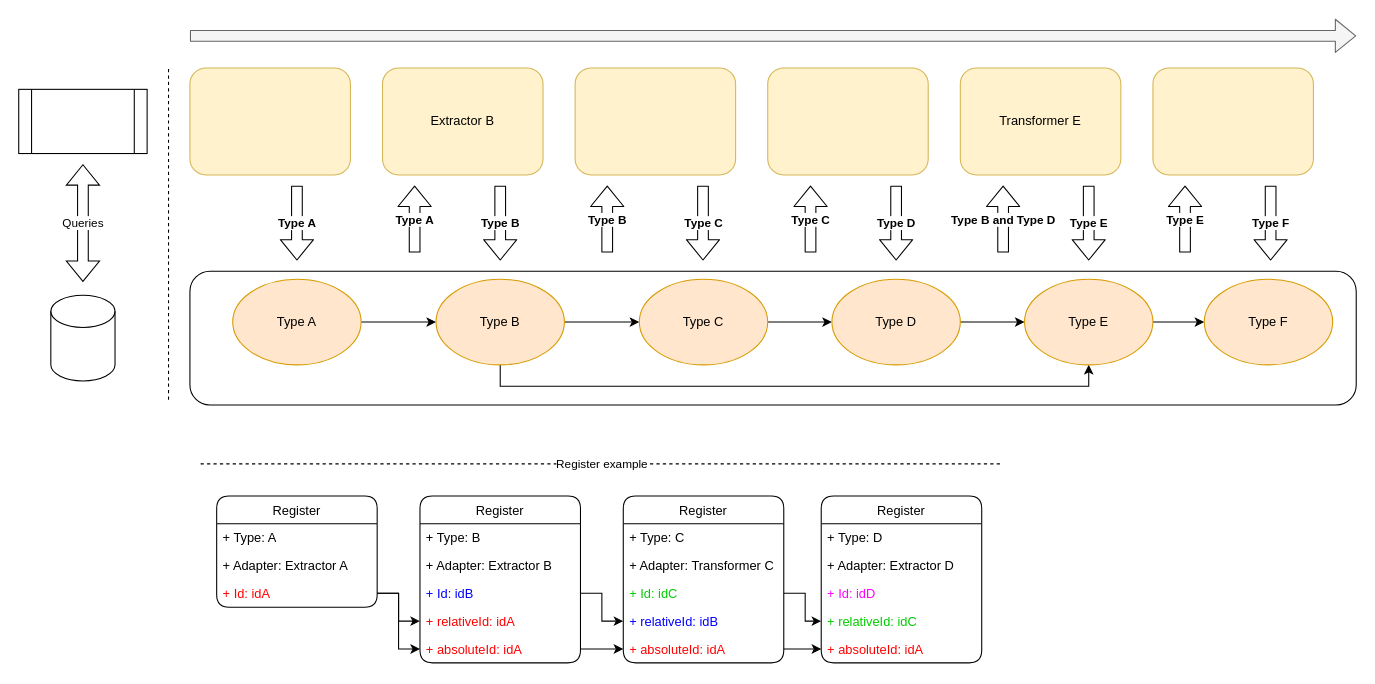
Some shapes in this 1375 by 684 pixel diagram are drawn without their labels. Here are the shapes that lost their labels. From the top down, the centre of each, then its label:
At pixel 82 121: "Process".
At pixel 269 121: "Extractor A".
At pixel 655 121: "Transformer C".
At pixel 847 121: "Extractor D".
At pixel 1232 121: "Loader F".
At pixel 82 337: "Registers".
